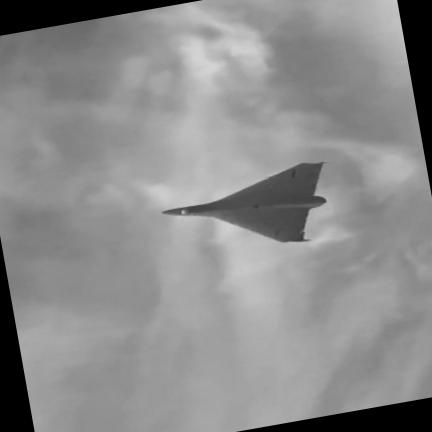Shahed: (162, 161, 326, 242)
